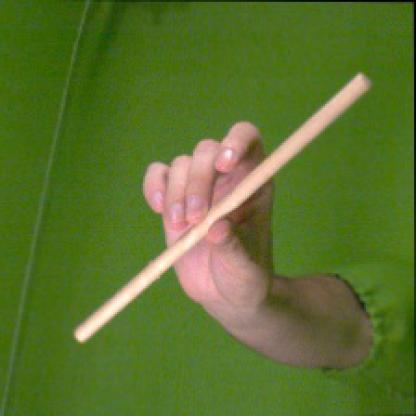Hand: (139, 121, 274, 325)
